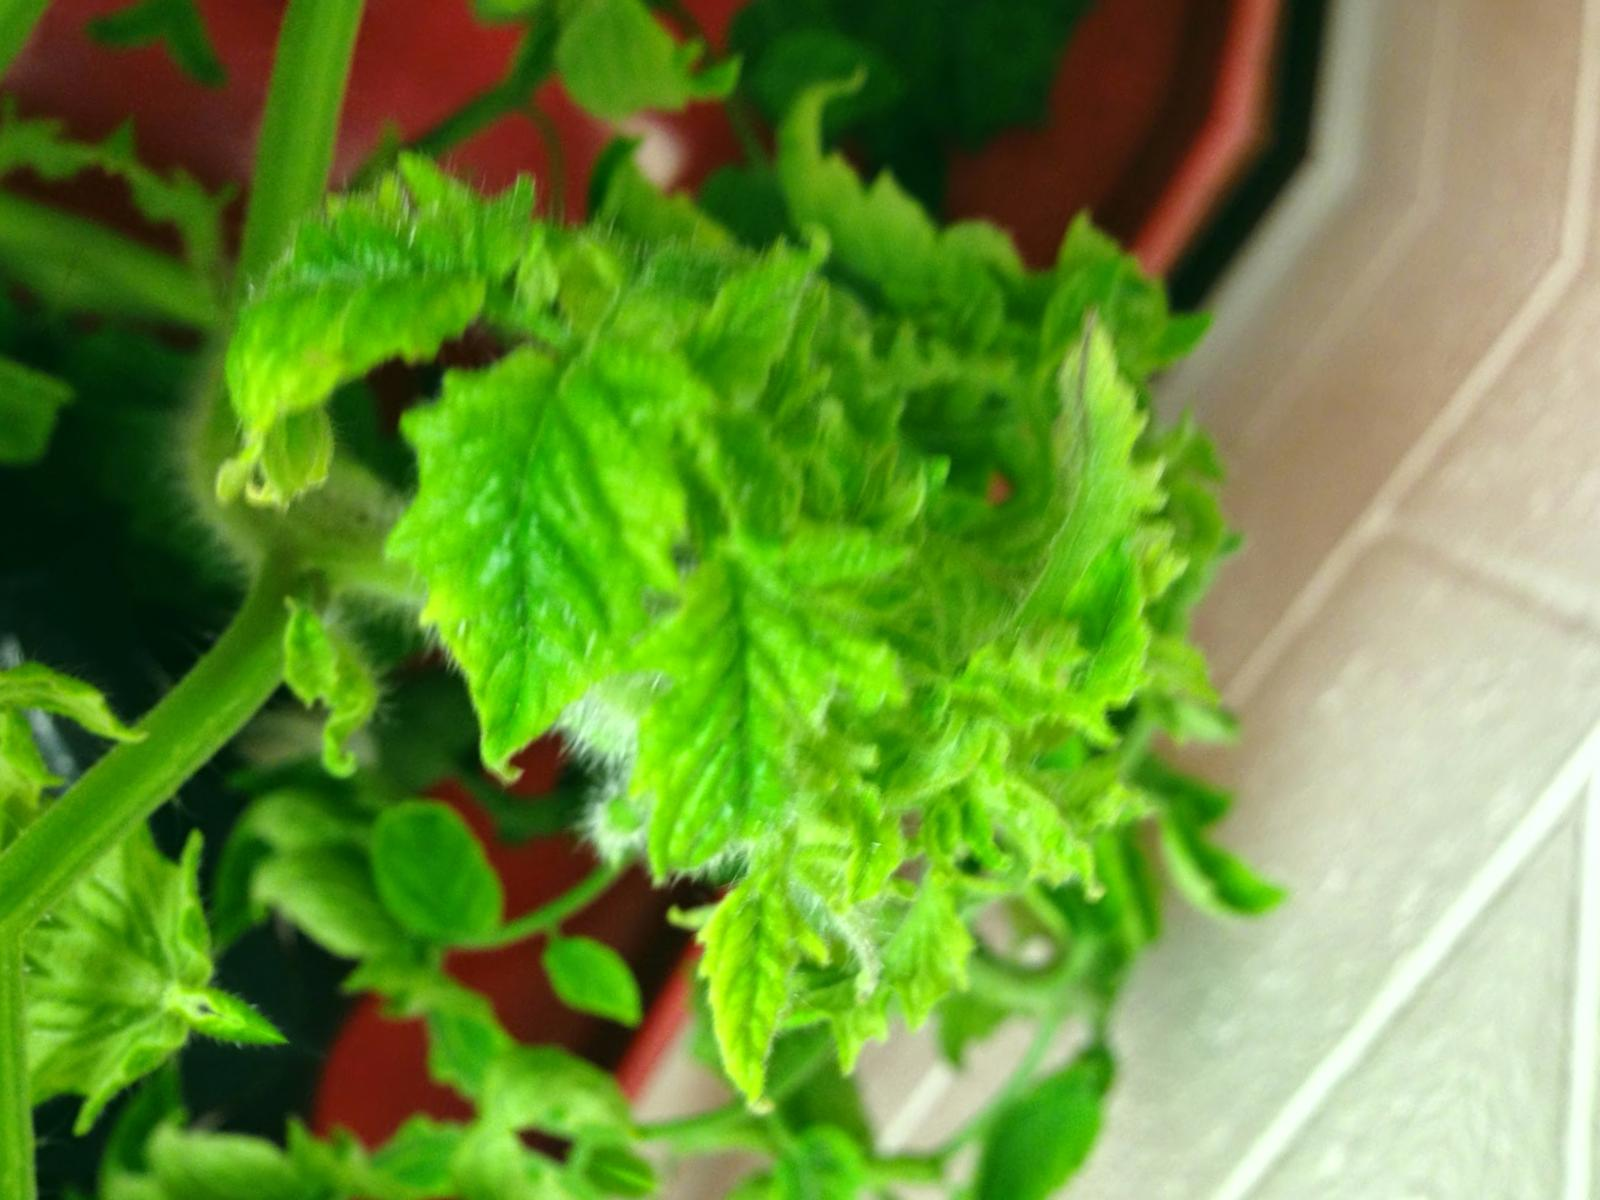Tomato leaf yellow virus: (276, 228, 742, 817), (540, 441, 917, 978), (157, 101, 533, 597)
